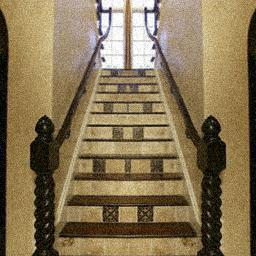Escaleras: (39, 70, 221, 253)
